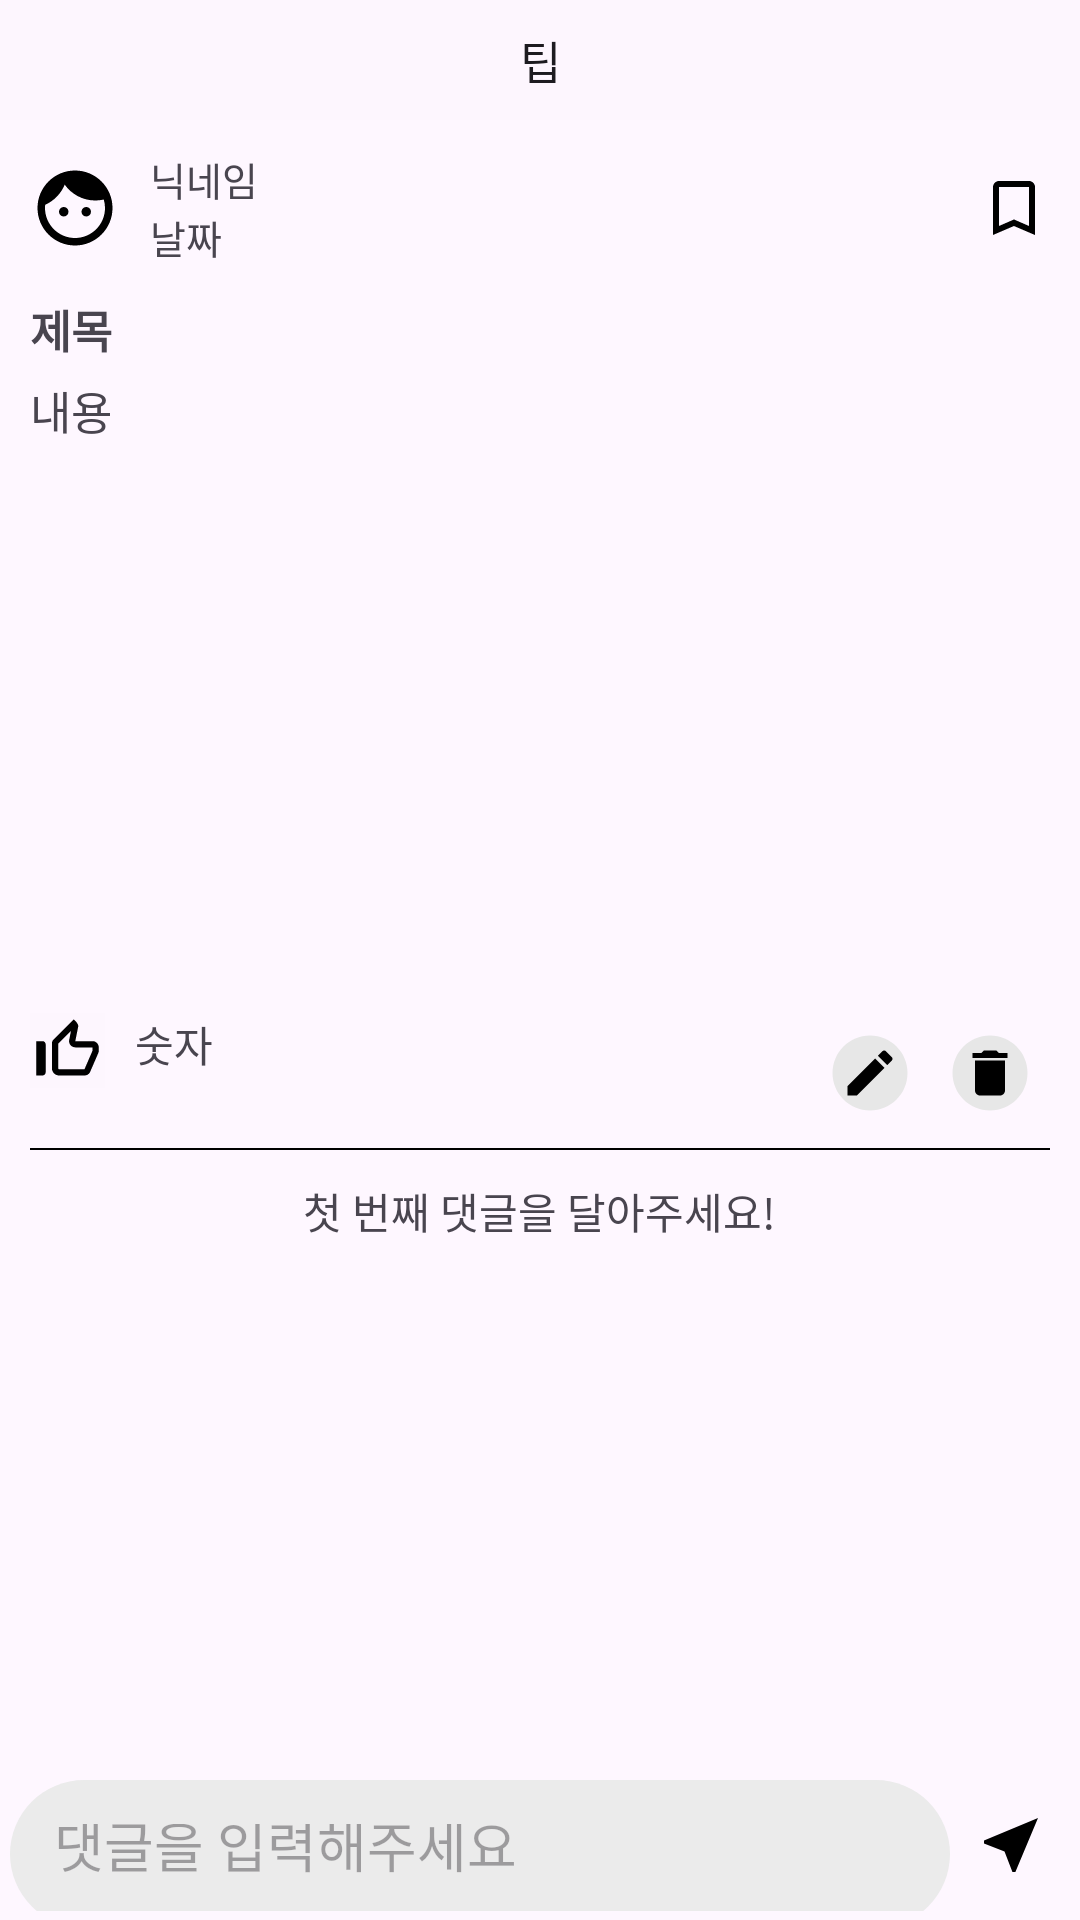

Where to tap for icons on this 1080w x 1920h app screen, as (x=x, y=y):
delete: (x=990, y=1073)
face: (x=75, y=208)
mode edit: (x=870, y=1073)
near me: (x=1011, y=1845)
not bookmarked: (x=1014, y=208)
thumb up border: (x=67, y=1047)
